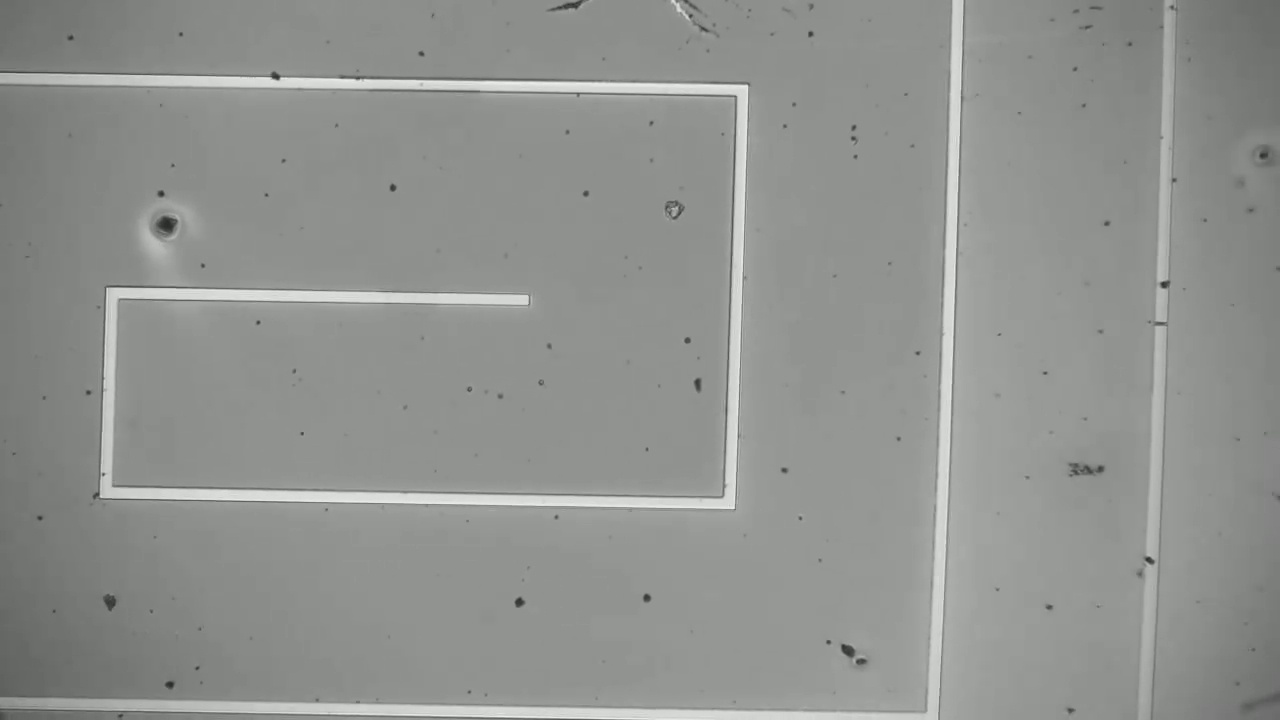open: (1145, 312, 1174, 337)
stains_enbedded: (1140, 551, 1166, 576), (1156, 277, 1174, 298)
